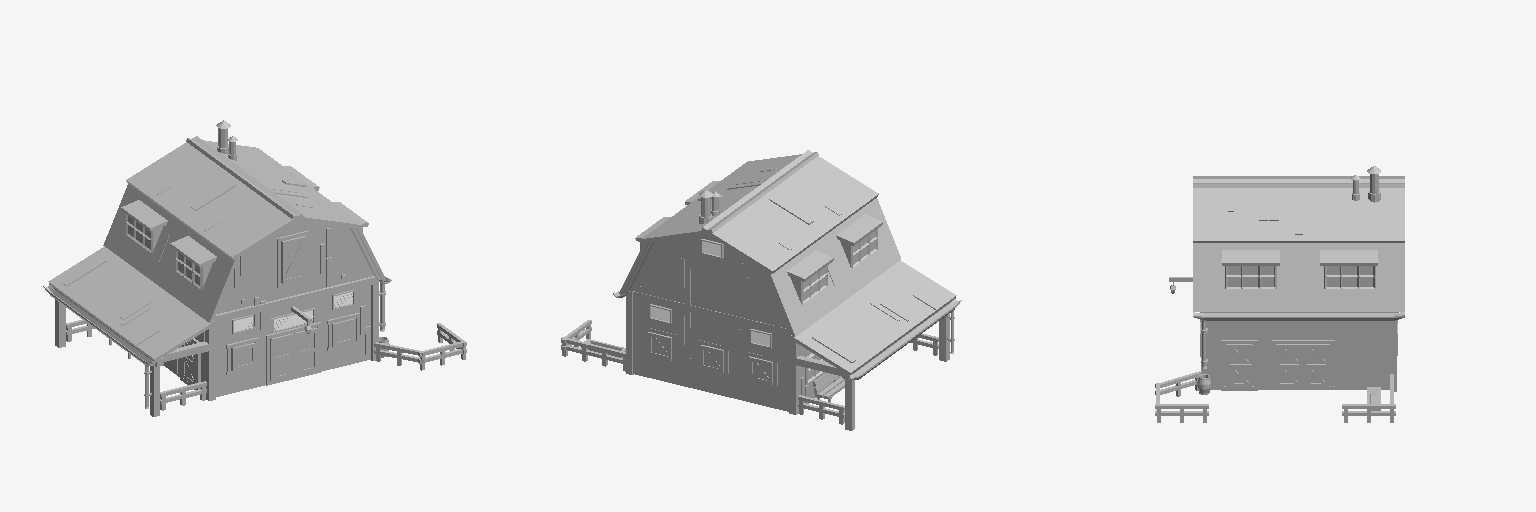
Rendered from Barn2.obj.
3 views of the same model, side by side, from view 1: azimuth 30°, elevation 25°; view 2: azimuth 150°, elevation 25°; view 3: azimuth 270°, elevation 25° (orthographic).
Visible parts, largest first — view 1: Barn; view 2: Barn; view 3: Barn.
Part boxes in pixels (x1,y1,x2,y2): Barn: (43, 120, 466, 416); Barn: (561, 150, 961, 430); Barn: (1155, 166, 1404, 422).
Size of the model in its own units: 89.93 by 55.83 by 64.82.